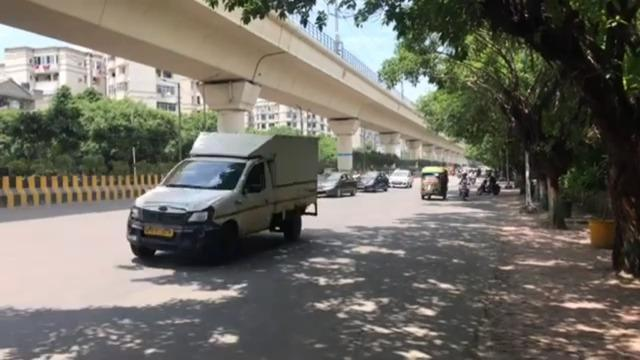Auto: (419, 165, 448, 199)
Bike: (476, 171, 500, 195), (457, 172, 470, 200)
Truck: (125, 129, 320, 261)
